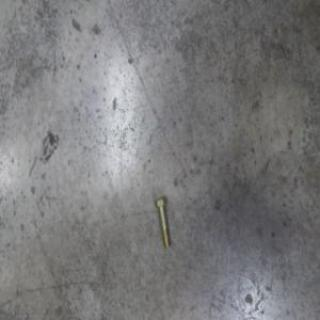Bolttrack_idkeyframe: (154, 193, 172, 247)
